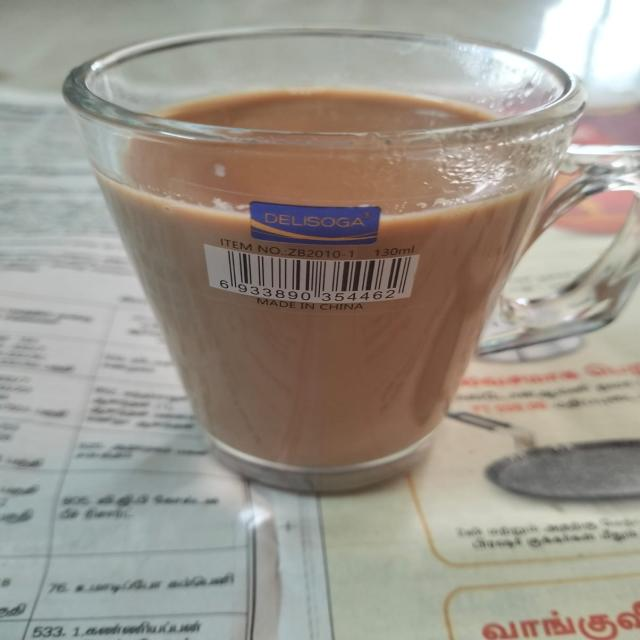glass-VX4N: (65, 22, 640, 500)
